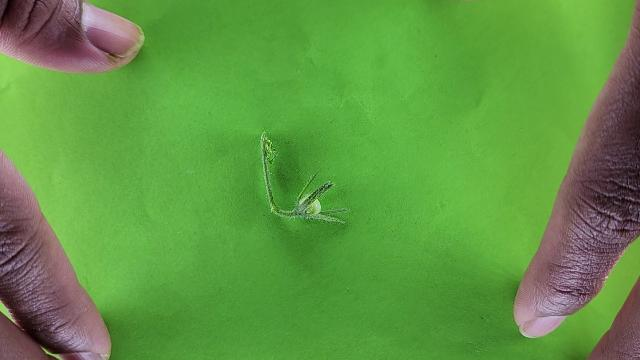Fruit Bud: (295, 172, 333, 215)
